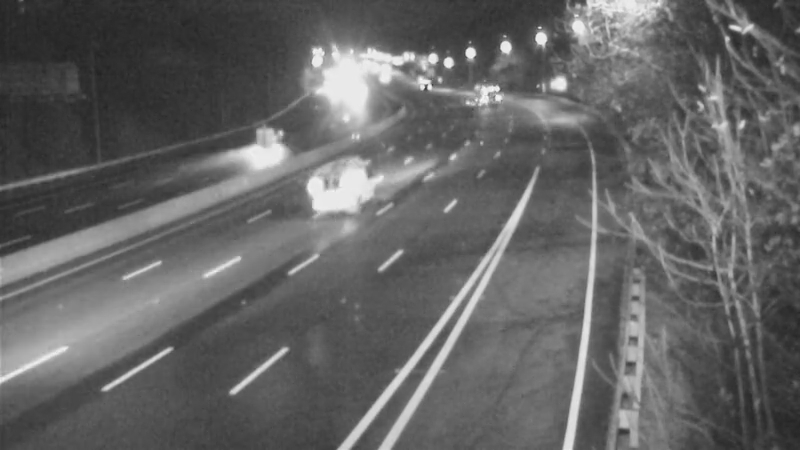vehicle: (291, 145, 371, 225), (449, 68, 499, 118), (239, 121, 289, 171)
